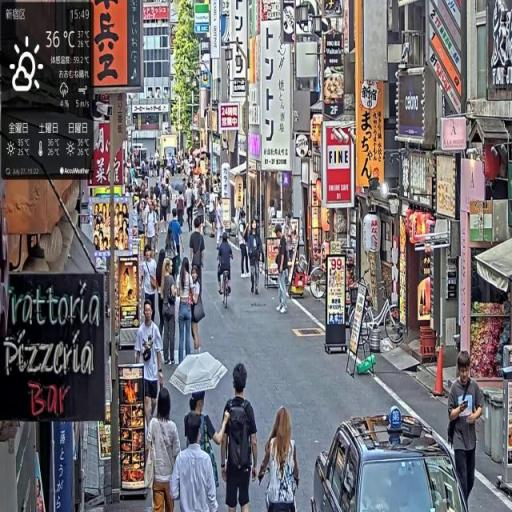person: (214, 362, 259, 512), (447, 351, 485, 510), (171, 410, 222, 512), (144, 384, 183, 512), (257, 405, 301, 512), (135, 301, 166, 436), (184, 392, 221, 463), (160, 259, 180, 368), (141, 246, 162, 332), (190, 265, 207, 356), (247, 220, 265, 299), (217, 233, 235, 308), (167, 208, 184, 286), (189, 220, 207, 285)
